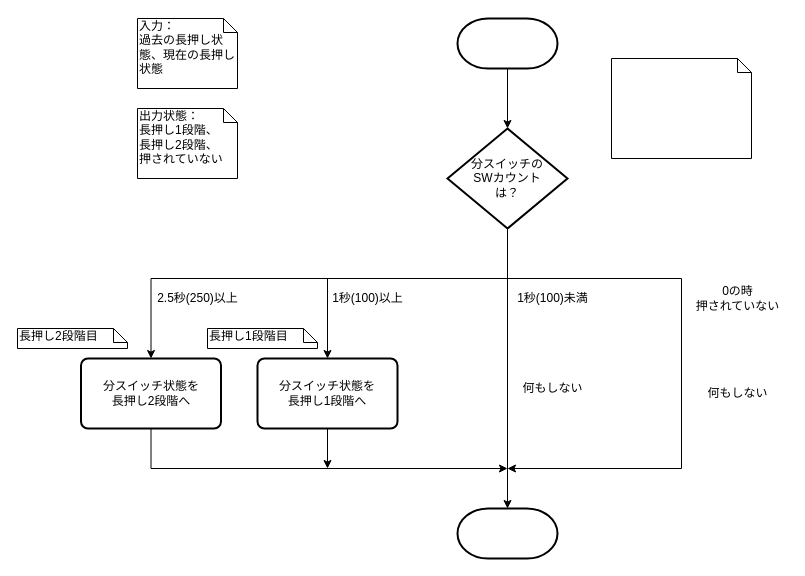
The diagram is 805 pixels wide and 576 high, and some of its shapes have lost their labels. Here are the shapes that lost their labels. From the top down, the box of each, then its label:
(456, 17, 558, 69): 分長押し検知
(610, 58, 752, 158): 分スイッチ用と 秒スイッチ用とで存在 どちらもほぼ同じ処理なため、片方の流れを省略
(456, 507, 558, 559): end
